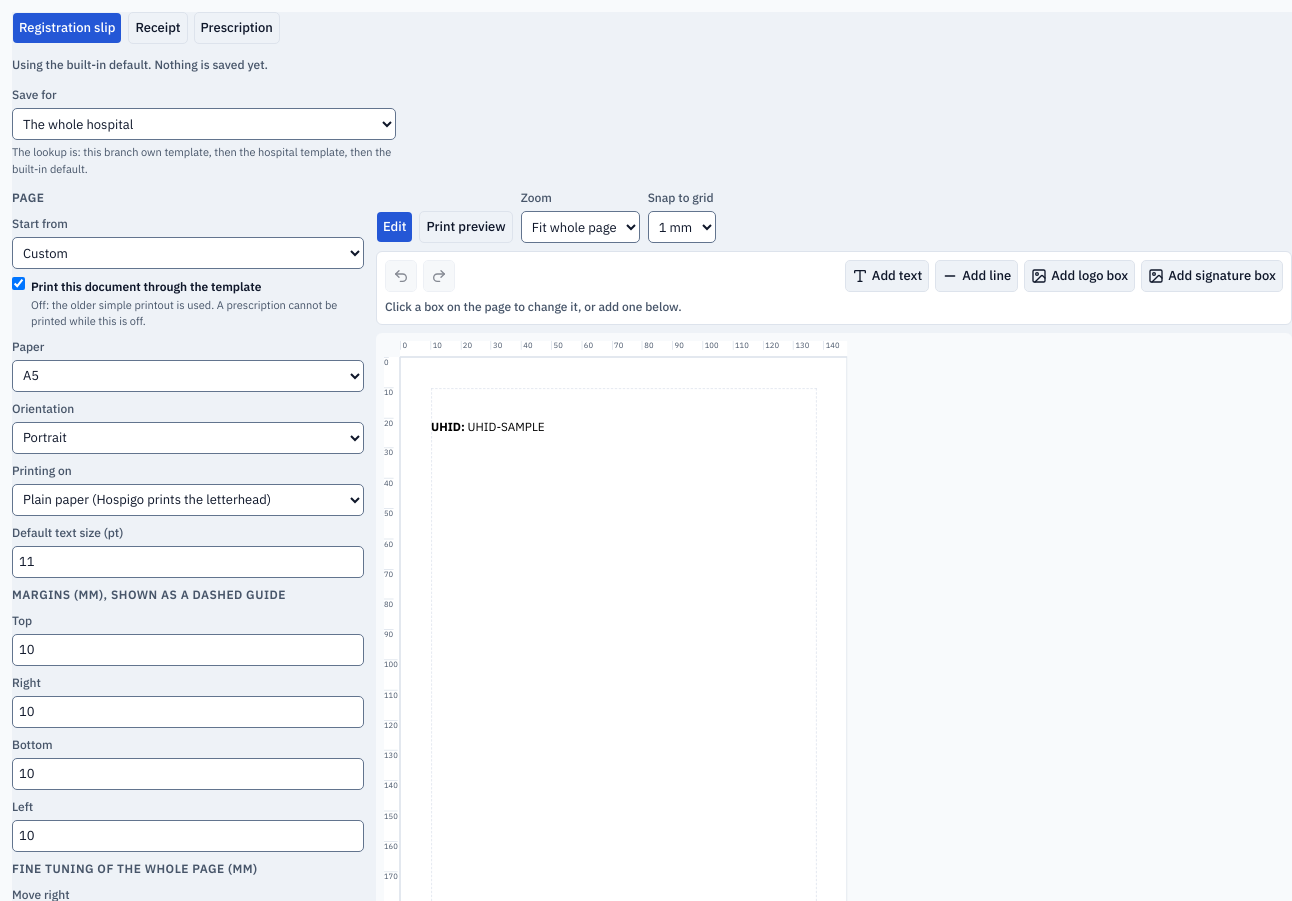
Scenario: selecting a box › the ribbon follows the selection
The width and height of the screenshot is (1292, 901).
Click the button "Receipt". click: (158, 28)
box: [128, 12, 188, 44]
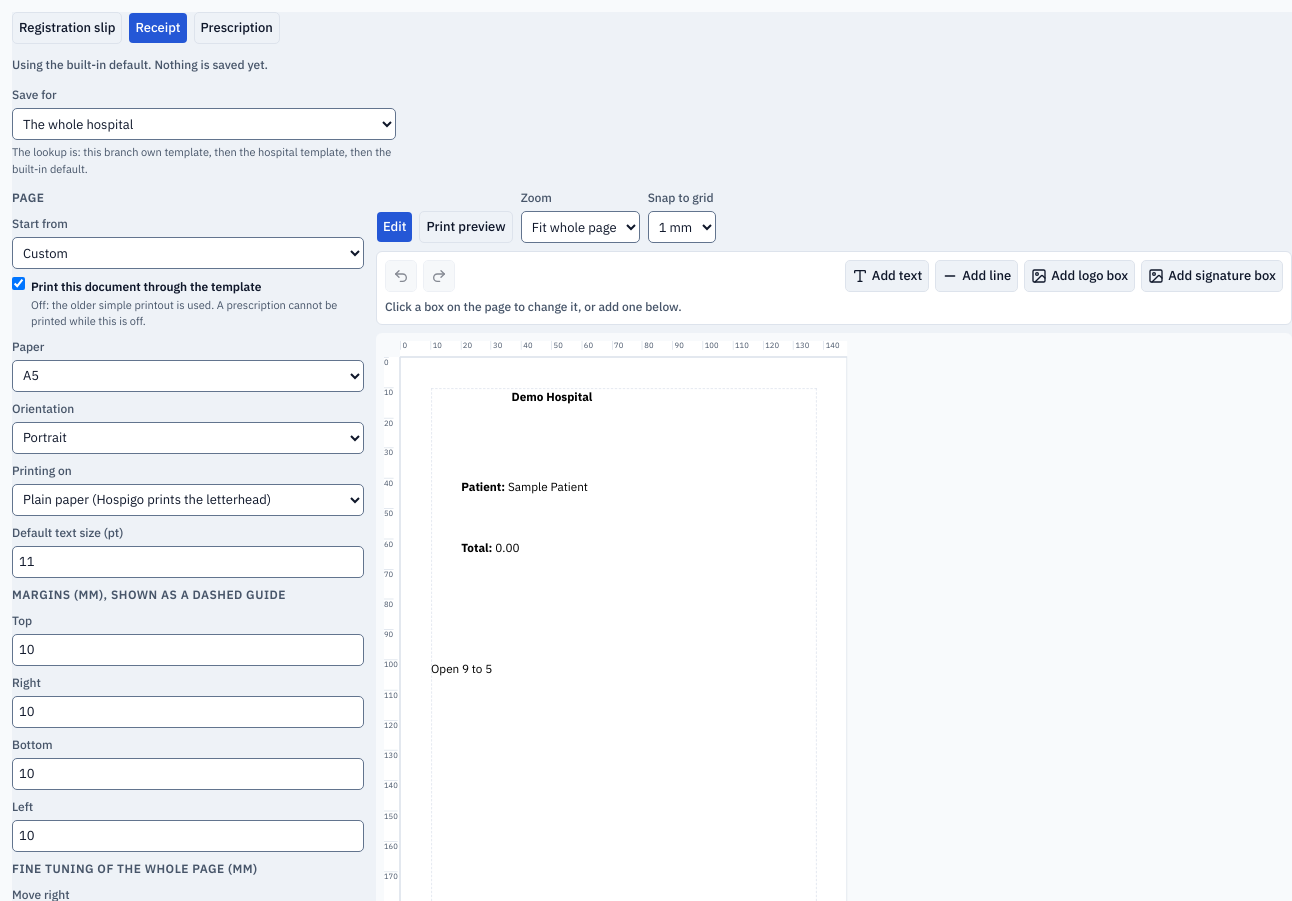
Press the mouse on the button "Demo Hospital" at (552, 396), box [512, 389, 592, 404]
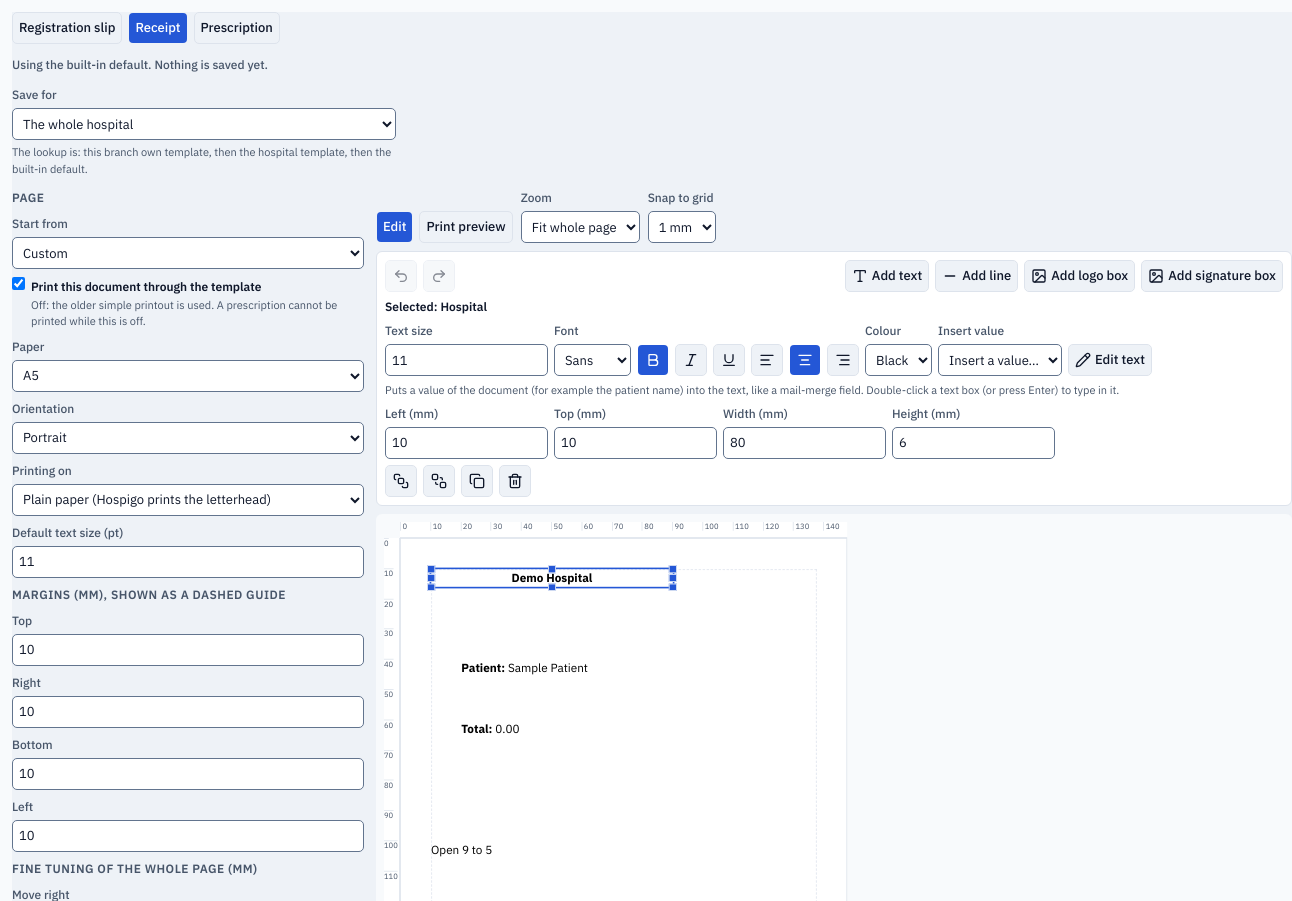
Press the mouse on the button "Total: 0.00" at (490, 728), box [461, 720, 520, 736]
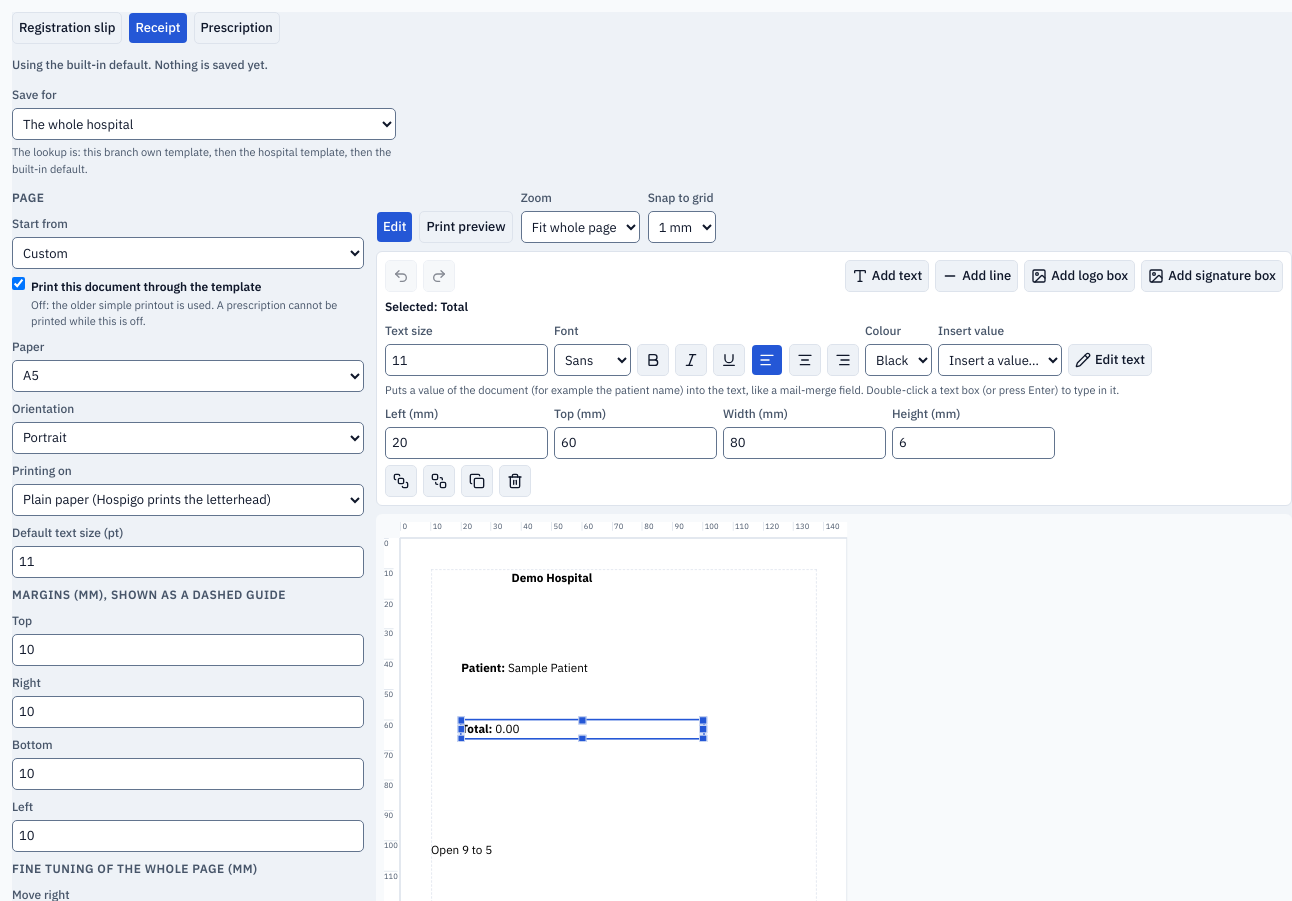
Expected: the number field labelled "Left (mm)" holds "20", [385, 426, 548, 458]
